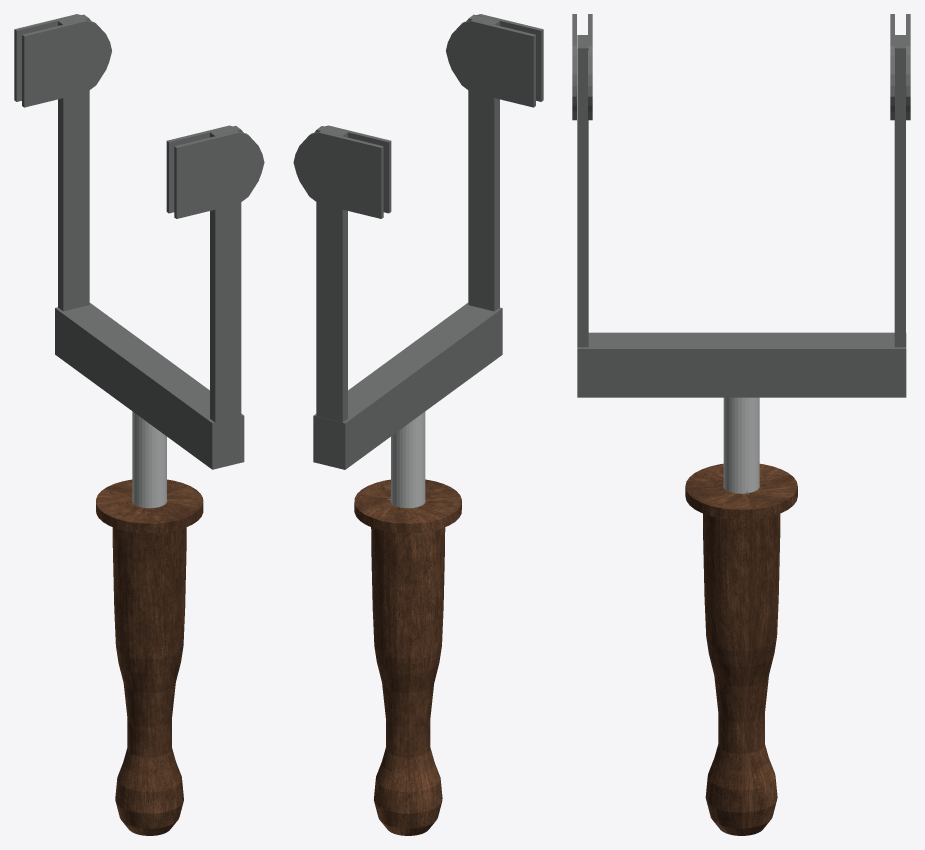
The model's file is chave_OnOff_caixaEletrica_TEXTURIZADA.fbx.
3 renders of one model, left to right at view 1: azimuth 30°, elevation 25°; view 2: azimuth 150°, elevation 25°; view 3: azimuth 270°, elevation 25°, orthographic. The views are drawn at different scales.
Visible parts, largest first — view 1: chave; view 2: chave; view 3: chave.
Boxes of the visible parts, x1,y1,x2,y2 form: chave: [14, 14, 264, 835]; chave: [293, 14, 543, 835]; chave: [572, 14, 910, 835].
Bounding box in the file's own units: 5.65 × 40.37 × 15.74.
Materials: 1 (1 with a texture image).
